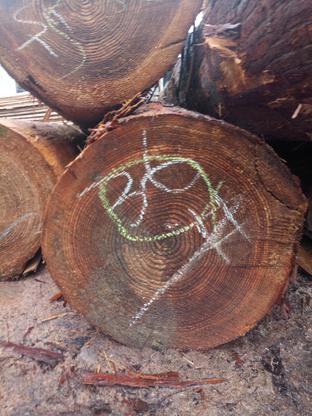mood: (40, 113, 303, 349)
